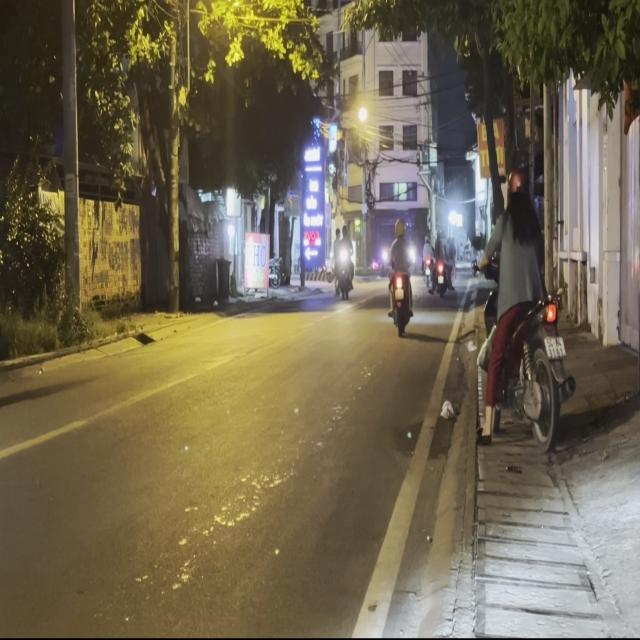helmet: (505, 164, 530, 209)
licenseplate: (476, 155, 570, 451)
nohelmet: (544, 336, 566, 358)
